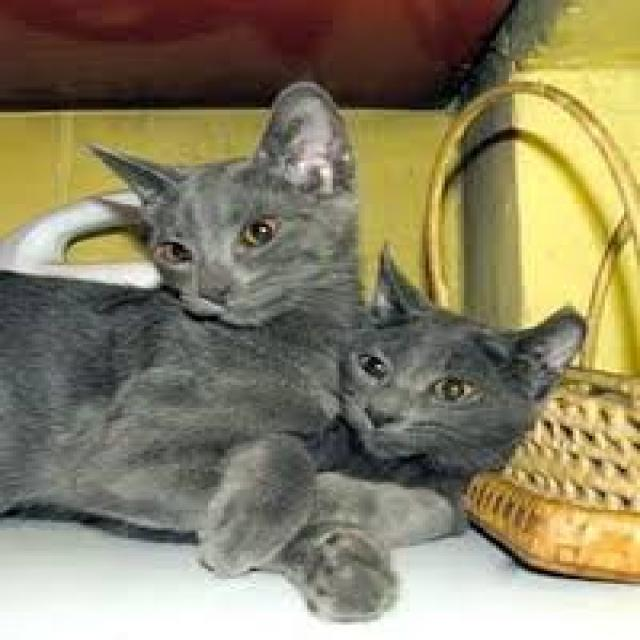Cat: (0, 77, 365, 581), (340, 236, 598, 489)
